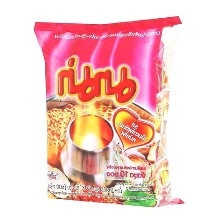snack: (27, 10, 193, 214)
